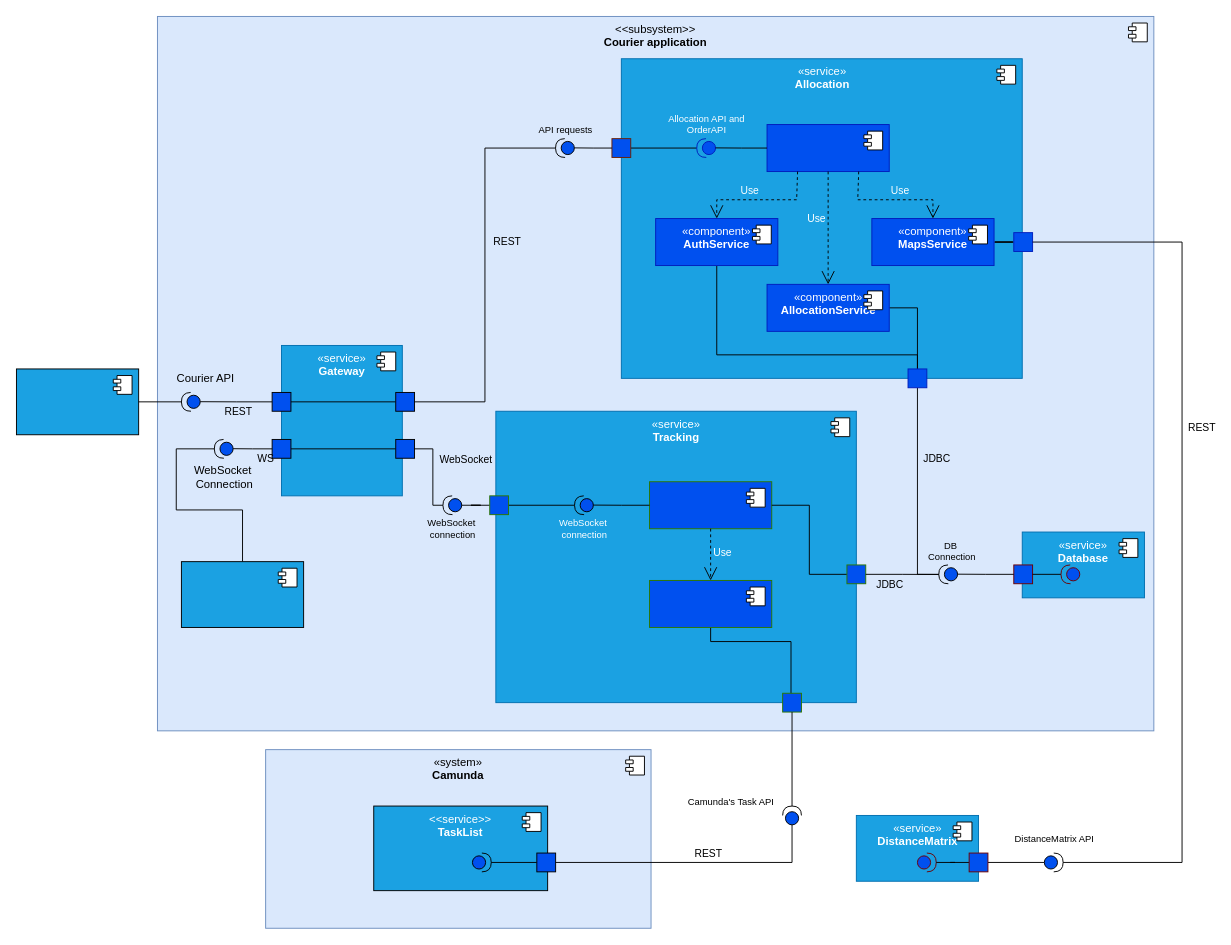
This 1231x945 diagram has some shape labels left out. Here are the shapes that lost their labels. From the top down, the centre of each, then its label:
At (x=827, y=148): "«component» Allocation Controller".
At (x=77, y=401): "«component» Client".
At (x=710, y=505): "«component» WSHandler".
At (x=242, y=594): "«component» Rider".
At (x=710, y=603): "«component» TaskListService".
